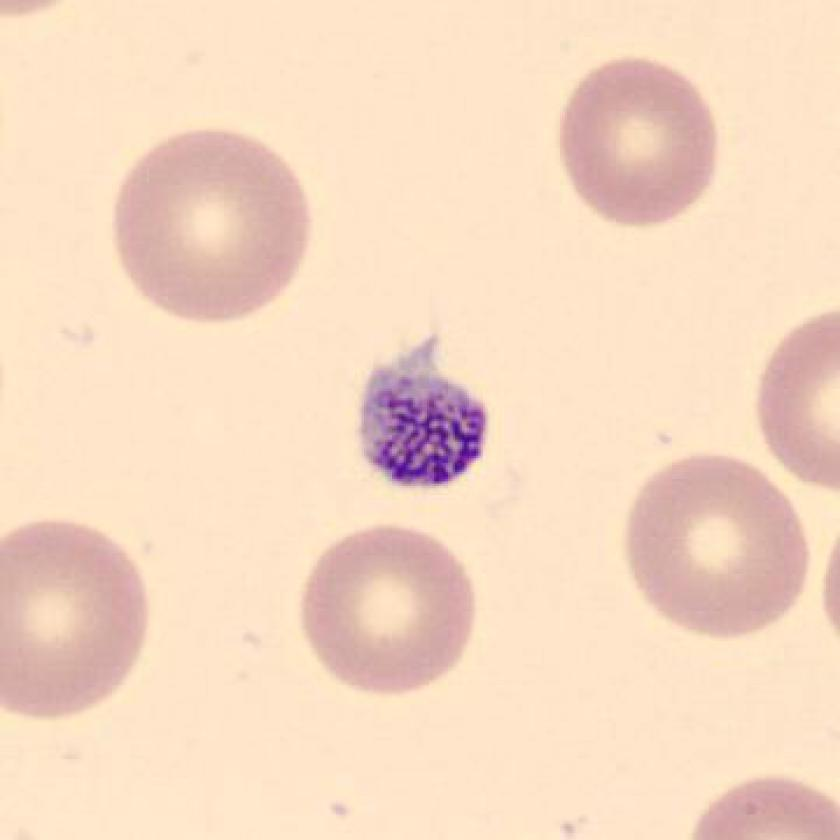platelets: (344, 323, 503, 510)
